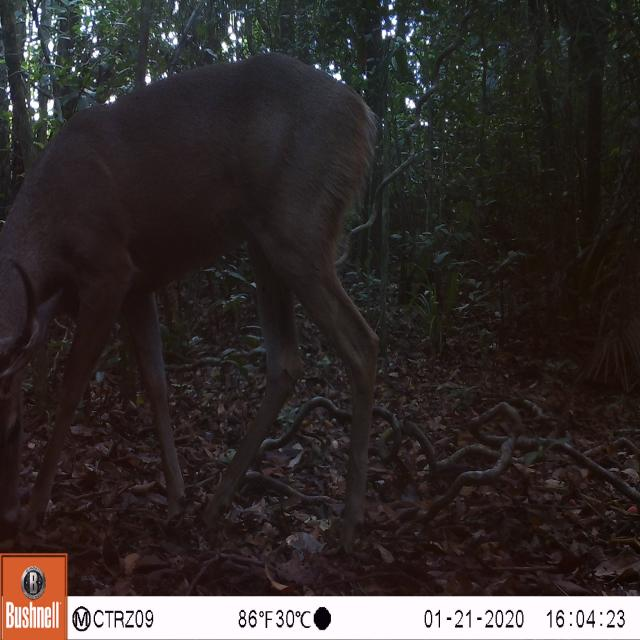White-tailed Deer: (0, 46, 418, 560)
